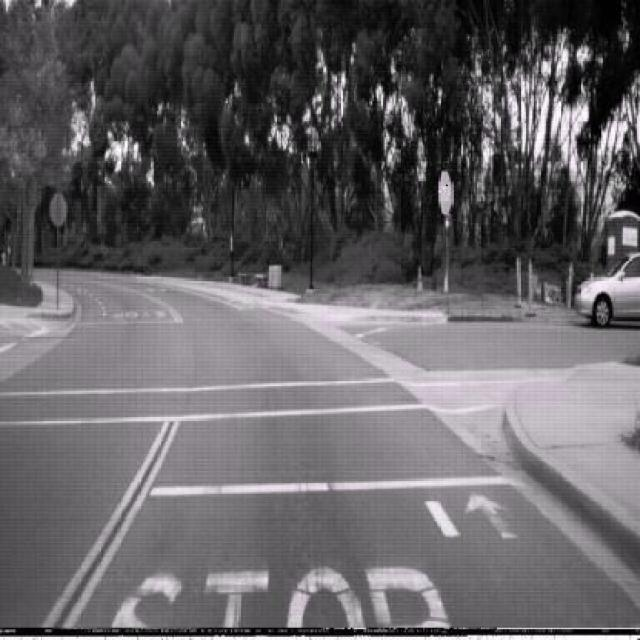stop: (440, 171, 455, 216)
